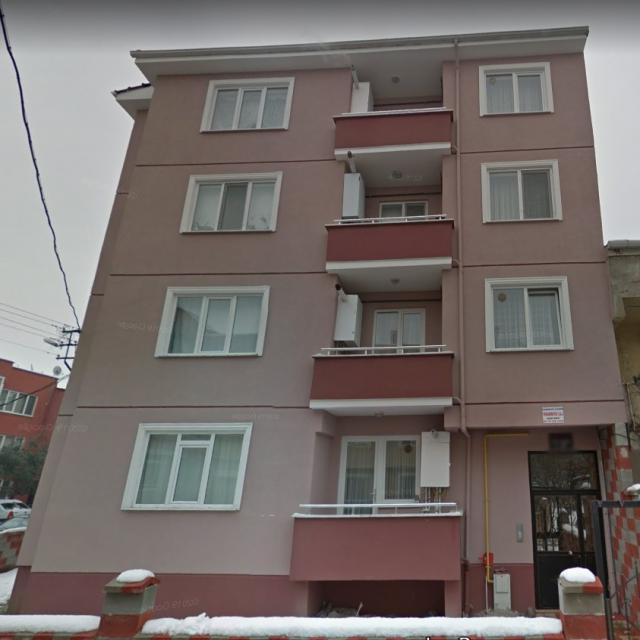Building: (5, 25, 635, 619)
